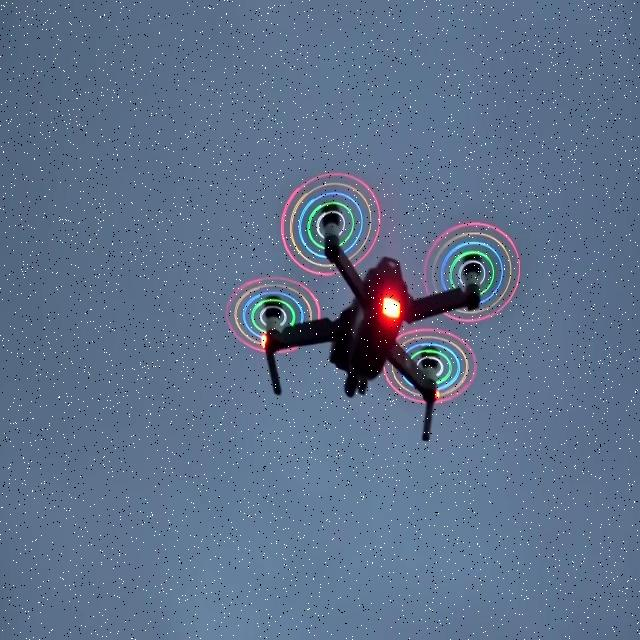UAV: (225, 170, 521, 442)
